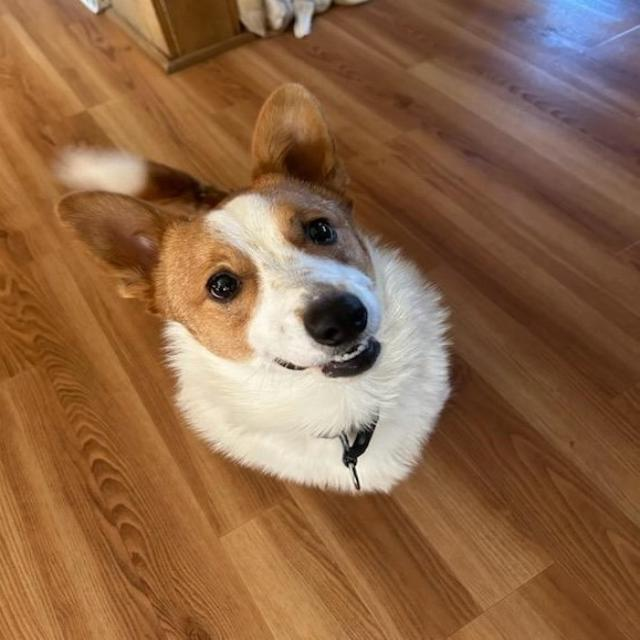corgi_dog: (49, 82, 438, 429)
